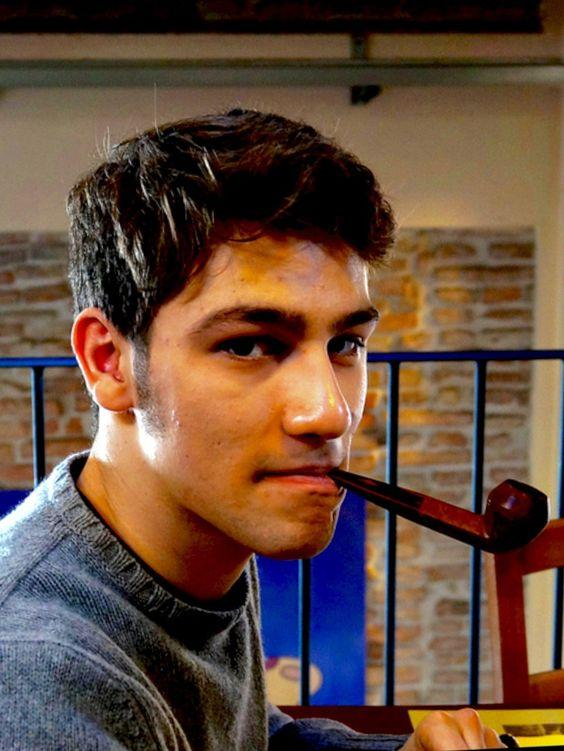trubka: (330, 470, 547, 554)
